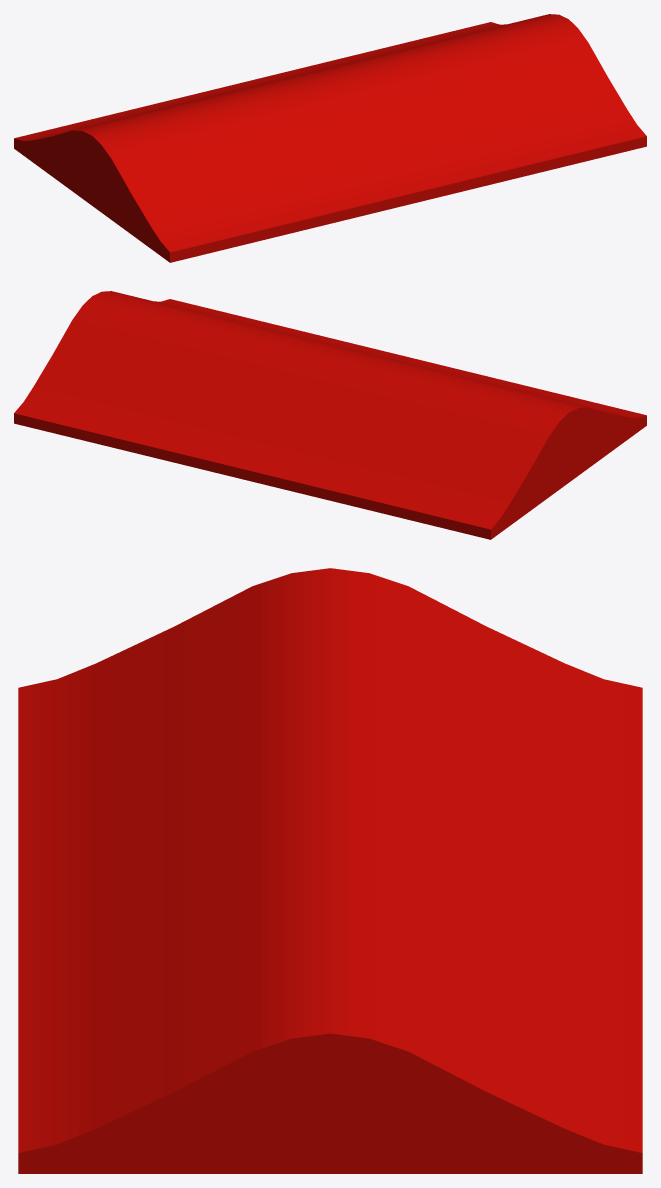
The model's file is obstacle3.obj.
3 renders of one model, top to bottom at view 1: azimuth 30°, elevation 25°; view 2: azimuth 150°, elevation 25°; view 3: azimuth 270°, elevation 25°, orthographic. The views are drawn at different scales.
Parts seen in each view (by area): view 1: AV_bump_wave_104_BumpWave; view 2: AV_bump_wave_104_BumpWave; view 3: AV_bump_wave_104_BumpWave.
Part boxes in pixels (x1,y1,x2,y2): AV_bump_wave_104_BumpWave: (14, 14, 646, 262); AV_bump_wave_104_BumpWave: (14, 291, 646, 539); AV_bump_wave_104_BumpWave: (18, 568, 642, 1173).
Bounding box in the file's own units: 4.38 × 0.6152 × 2.48.
